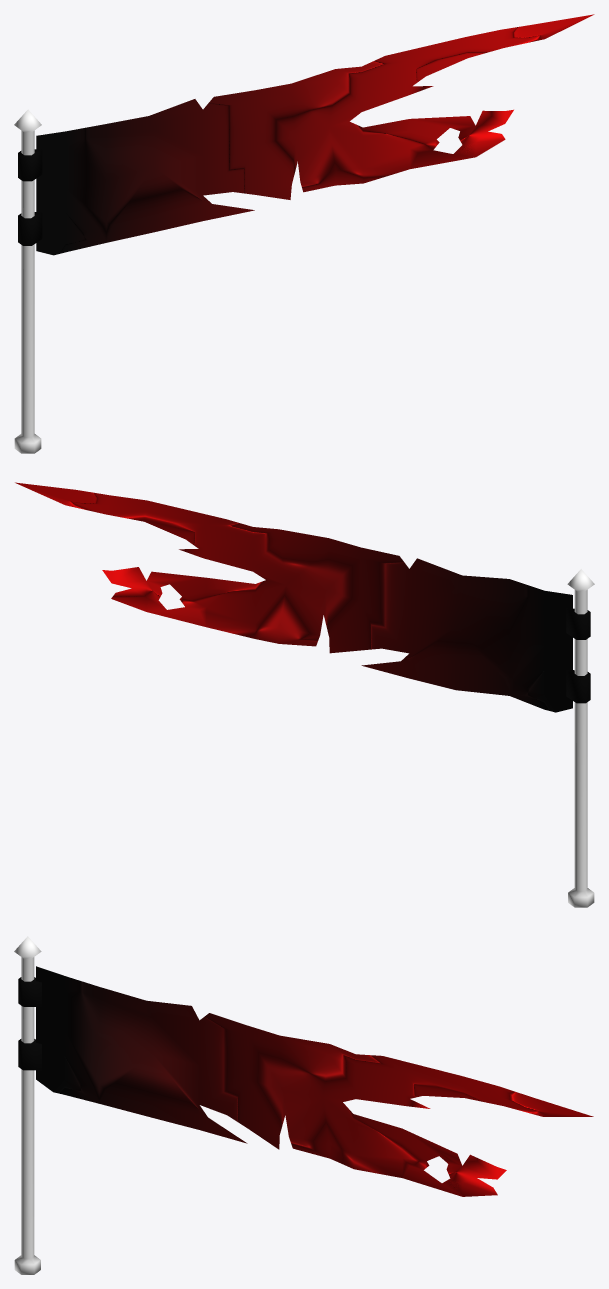
File: SM_Prop_Flag_01.fbx
3 views of the same model, one above another, from view 1: azimuth 30°, elevation 25°; view 2: azimuth 150°, elevation 25°; view 3: azimuth 330°, elevation 25° (orthographic).
Visible parts, largest first — view 1: SM_Prop_Flag_01; view 2: SM_Prop_Flag_01; view 3: SM_Prop_Flag_01.
Boxes of the visible parts, left/top/right/bottom form: SM_Prop_Flag_01: left=14, top=14, right=594, bottom=453; SM_Prop_Flag_01: left=15, top=482, right=594, bottom=907; SM_Prop_Flag_01: left=14, top=936, right=593, bottom=1274.
Bounding box in the file's own units: 962 × 536 × 40.24.
